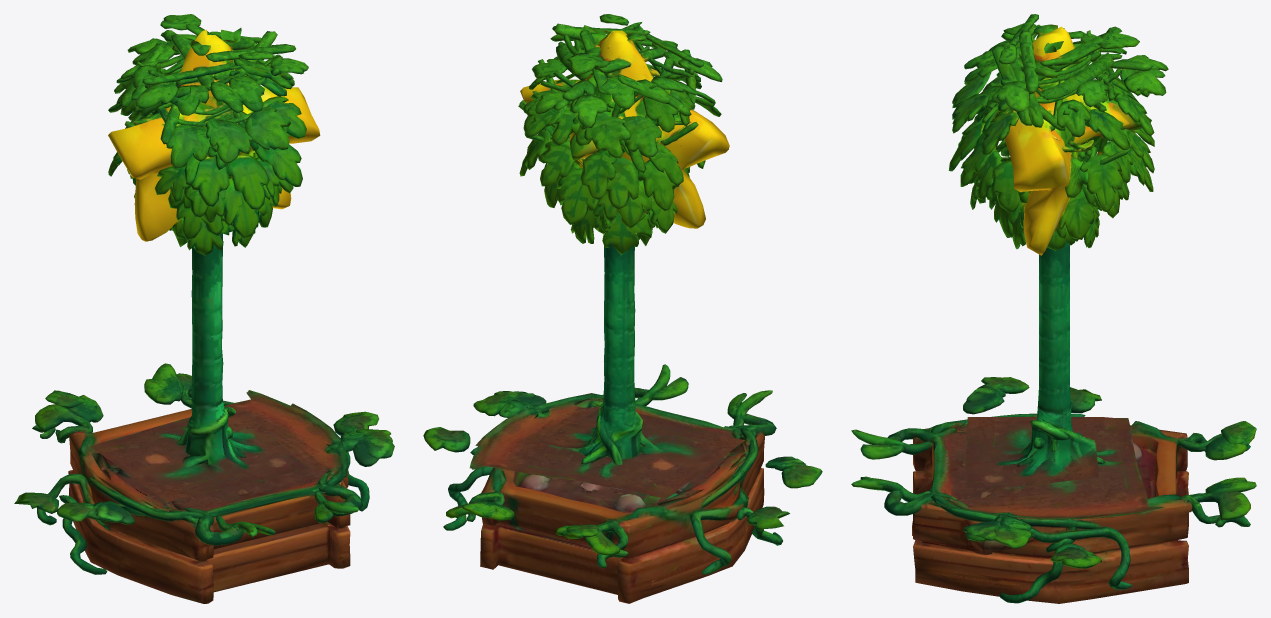
File: topiary_star.glb
3 views of the same model, side by side, from view 1: azimuth 30°, elevation 25°; view 2: azimuth 150°, elevation 25°; view 3: azimuth 270°, elevation 25° (orthographic). The views are drawn at different scales.
Bounding box in the file's own units: 1.41 × 1.89 × 1.33.
Materials: 1 (1 with a texture image).
